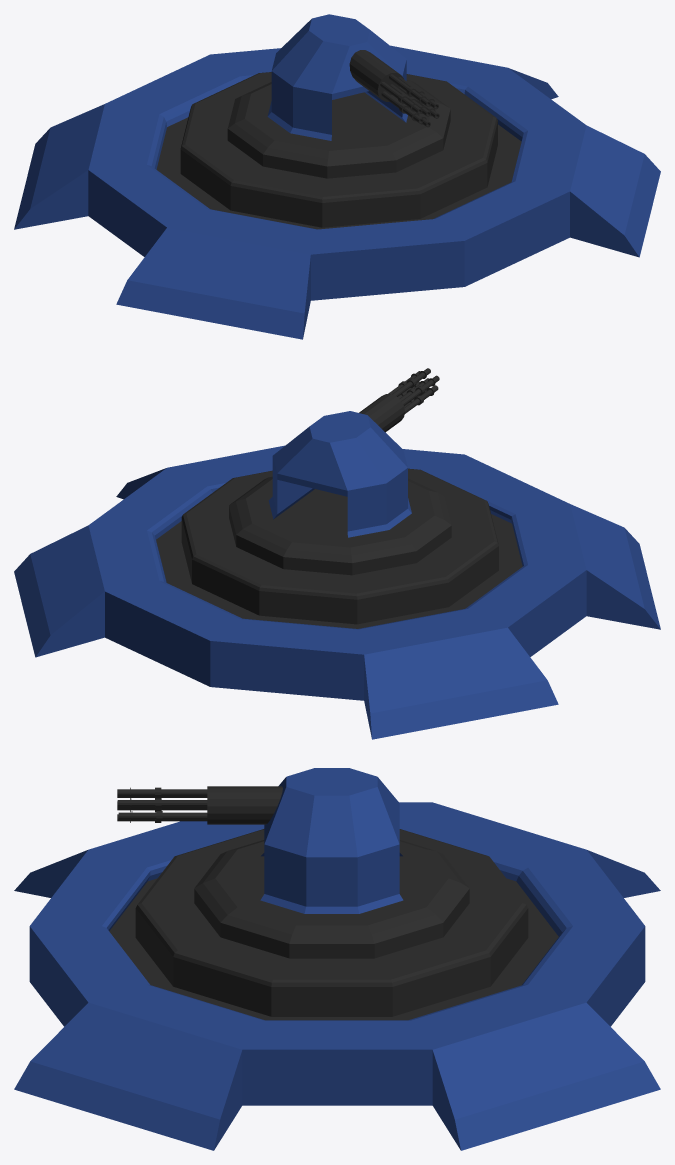
Rendered from GatlingTurret.fbx.
3 renders of one model, top to bottom at view 1: azimuth 30°, elevation 25°; view 2: azimuth 150°, elevation 25°; view 3: azimuth 270°, elevation 25°, orthographic. The views are drawn at different scales.
Visible parts, largest first — view 1: GatlingGun; view 2: GatlingGun; view 3: GatlingGun.
Boxes of the visible parts, x1=… form: GatlingGun: x1=14, y1=14, x2=660, y2=339; GatlingGun: x1=14, y1=368, x2=660, y2=739; GatlingGun: x1=14, y1=768, x2=660, y2=1150.
Size of the model in its own units: 61.77 by 18.66 by 52.55.
